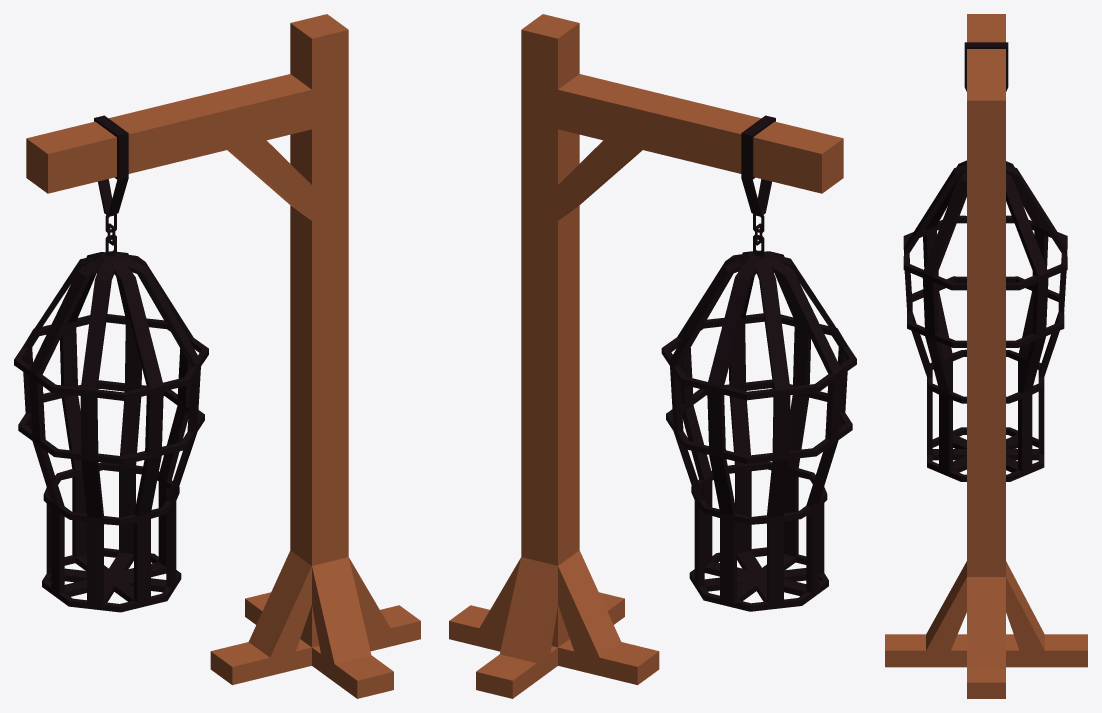
The model's file is Cage_and_Post_1.fbx.
3 renders of one model, left to right at view 1: azimuth 30°, elevation 25°; view 2: azimuth 150°, elevation 25°; view 3: azimuth 270°, elevation 25°, orthographic. The views are drawn at different scales.
Parts seen in each view (by area): view 1: Cage and Post 1; view 2: Cage and Post 1; view 3: Cage and Post 1.
Boxes of the visible parts, x1,y1,x2,y2 form: Cage and Post 1: (14, 14, 420, 698); Cage and Post 1: (449, 14, 856, 698); Cage and Post 1: (885, 14, 1087, 698).
Size of the model in its own units: 634 by 1005 by 326.
